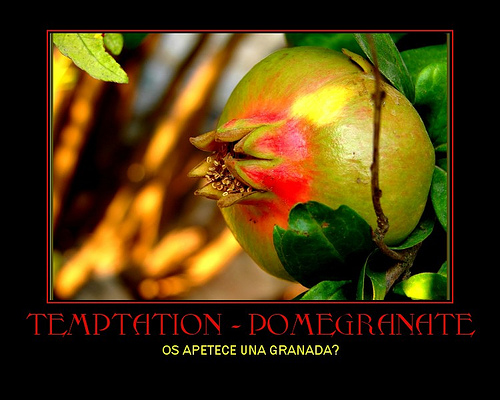pomogranate: (187, 44, 436, 285)
